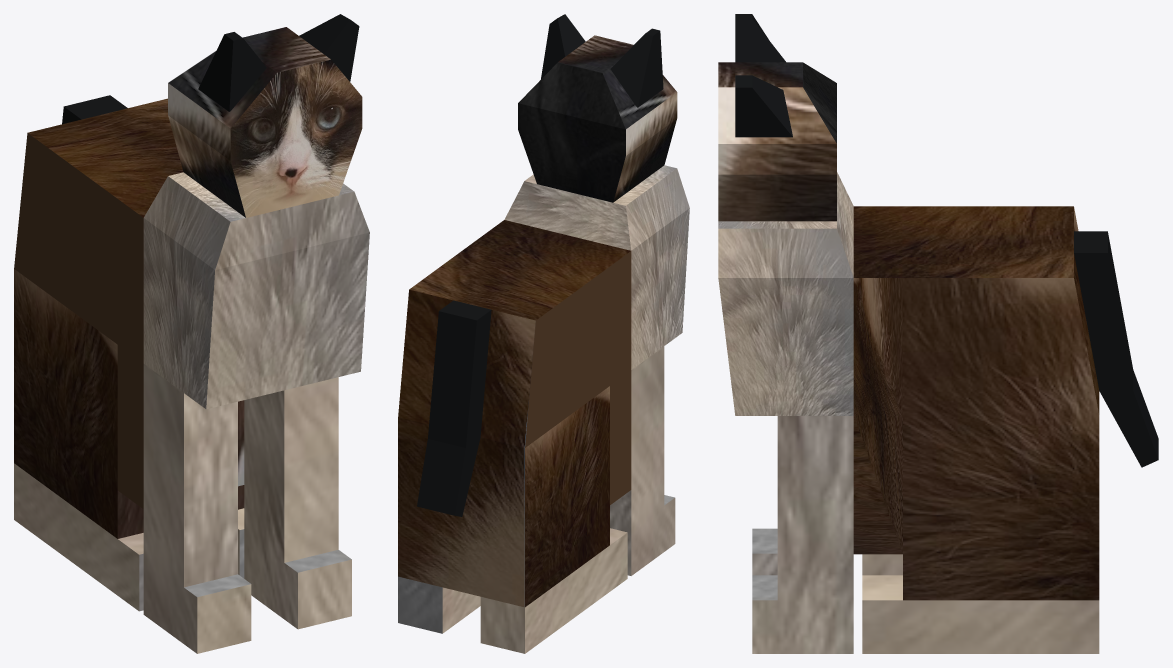
File: nevi.glb
3 views of the same model, side by side, from view 1: azimuth 30°, elevation 25°; view 2: azimuth 150°, elevation 25°; view 3: azimuth 270°, elevation 25° (orthographic). The views are drawn at different scales.
Visible parts, largest first — view 1: Cube.004, Cube.005, Cube.003, Cube.002, Cube.001, Cube.006, Cube.007, Cube.008; view 2: Cube.004, Cube.005, Cube.008, Cube.003, Cube.001, Cube, Cube.006, Cube.007; view 3: Cube.004, Cube.002, Cube.005, Cube, Cube.008, Cube.007, Cube.006, Cube.003, Cube.001.
Part boxes in pixels (<box>): Cube.004: <box>14,98,369,538</box>; Cube.005: <box>168,27,362,217</box>; Cube.003: <box>143,364,251,653</box>; Cube.002: <box>244,377,351,629</box>; Cube.001: <box>14,463,143,611</box>; Cube.006: <box>198,32,266,111</box>; Cube.007: <box>299,14,359,81</box>; Cube.008: <box>62,95,127,124</box>; Cube.004: <box>398,165,689,607</box>; Cube.005: <box>518,35,677,202</box>; Cube.008: <box>417,300,491,516</box>; Cube.003: <box>610,346,675,575</box>; Cube.001: <box>480,528,627,653</box>; Cube: <box>398,576,480,633</box>; Cube.006: <box>610,28,663,107</box>; Cube.007: <box>541,14,585,78</box>; Cube.004: <box>718,172,1099,600</box>; Cube.002: <box>752,416,853,653</box>; Cube.005: <box>718,62,836,221</box>; Cube: <box>862,575,1099,653</box>; Cube.008: <box>1074,231,1158,467</box>; Cube.007: <box>735,75,792,137</box>; Cube.006: <box>735,14,785,62</box>; Cube.003: <box>752,528,777,575</box>; Cube.001: <box>862,554,902,575</box>.
Size of the model in its own units: 0.2 by 0.757 by 0.52.
5 materials, 3 textured.
